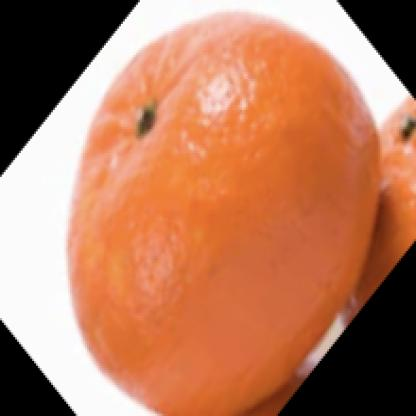fresh: (68, 10, 382, 416)
